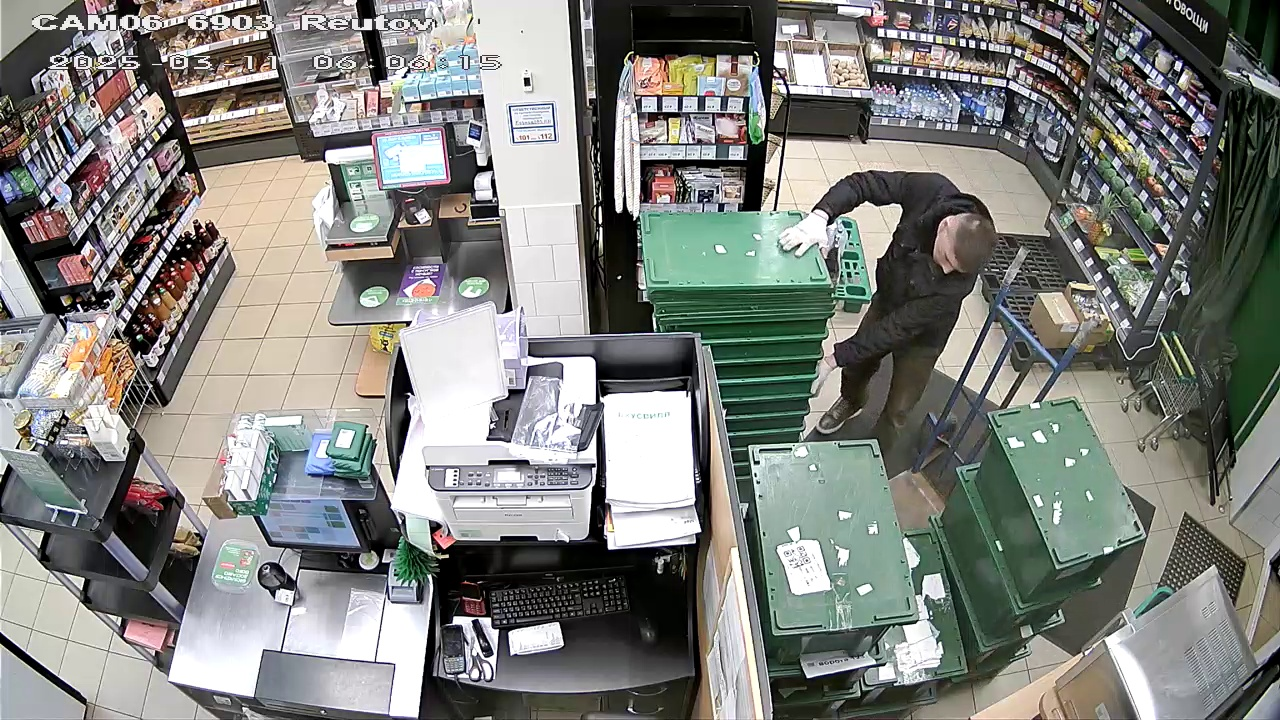Human: (773, 136, 987, 447)
pallet: (976, 224, 1125, 378)
